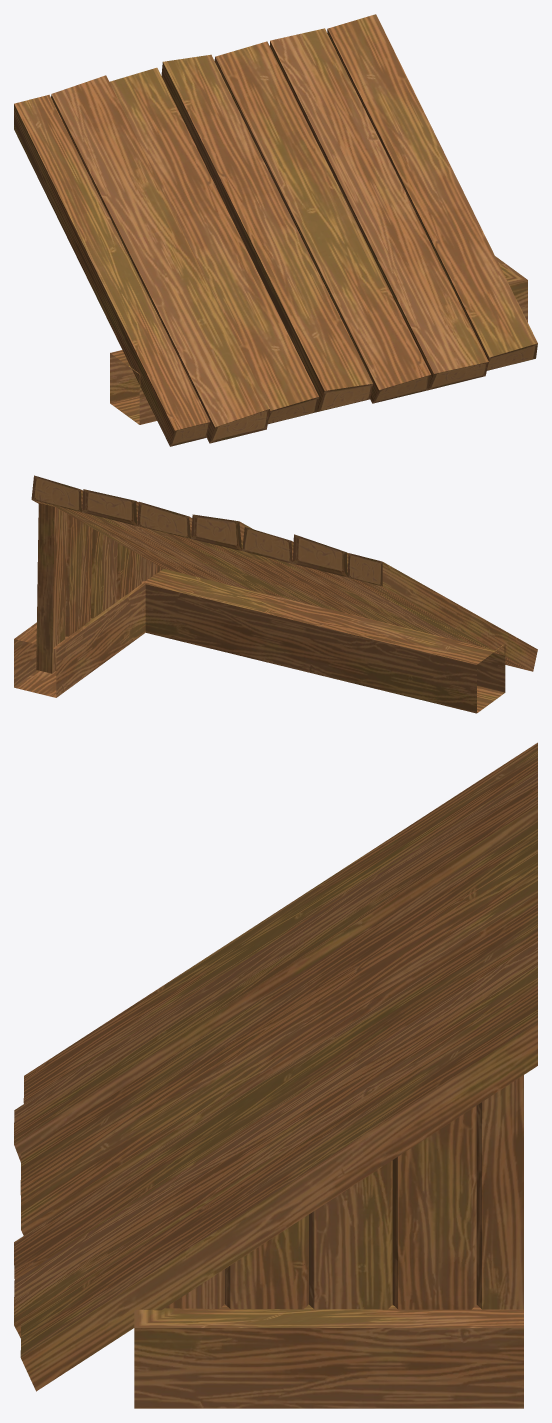
Rendered from Roof_Wooden_2x1_R.glb.
The picture shows the model from 3 angles, top to bottom: view 1: azimuth 30°, elevation 25°; view 2: azimuth 150°, elevation 25°; view 3: azimuth 270°, elevation 25°; orthographic projection. The views are drawn at different scales.
Parts seen in each view (by area): view 1: Roof_Wooden_2x1_R; view 2: Roof_Wooden_2x1_R; view 3: Roof_Wooden_2x1_R.
Boxes of the visible parts, x1,y1,x2,y2 form: Roof_Wooden_2x1_R: (14, 14, 537, 446); Roof_Wooden_2x1_R: (14, 475, 537, 713); Roof_Wooden_2x1_R: (14, 742, 537, 1408).
Bounding box in the file's own units: 2.13 × 1.25 × 1.56.
Materials: 1 (1 with a texture image).
